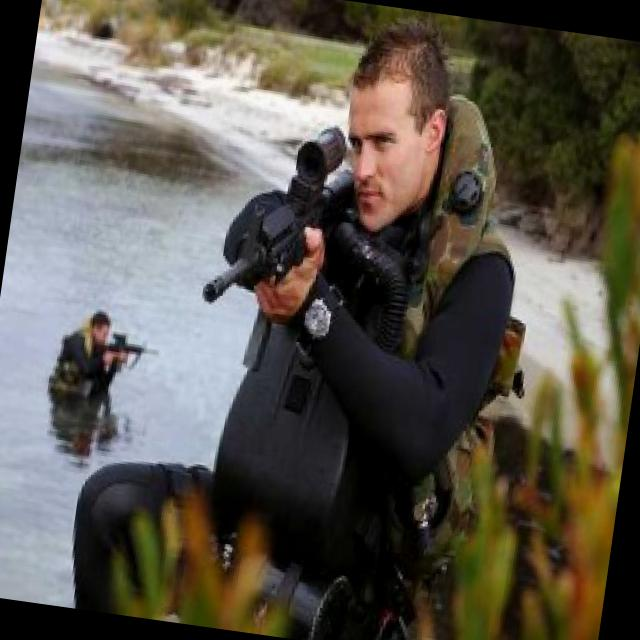long weapon: (188, 104, 366, 336)
